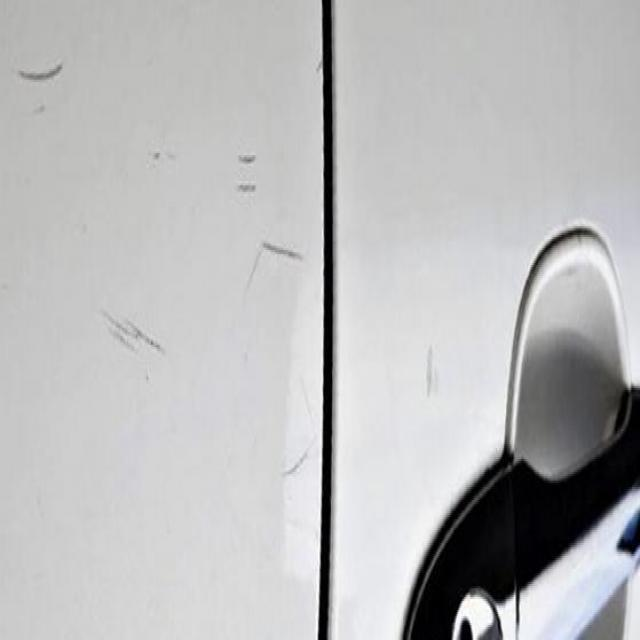scratch: (94, 288, 172, 380), (220, 127, 272, 203), (7, 44, 71, 94), (256, 219, 310, 277)
